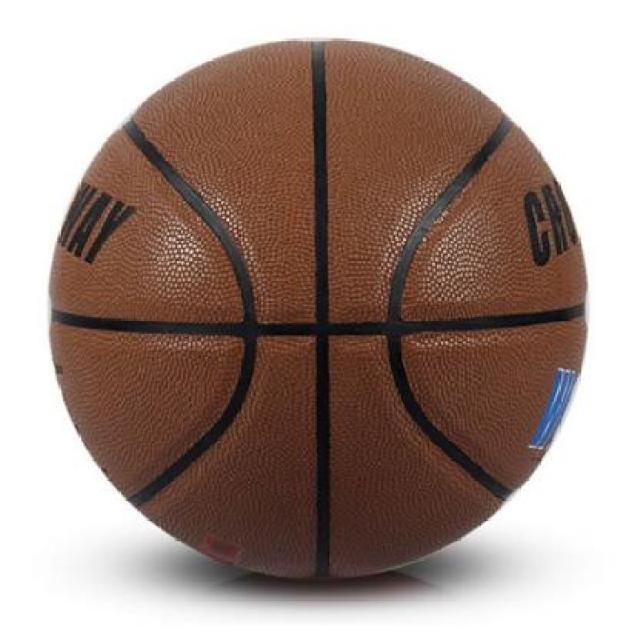basketball: (51, 35, 585, 583)
